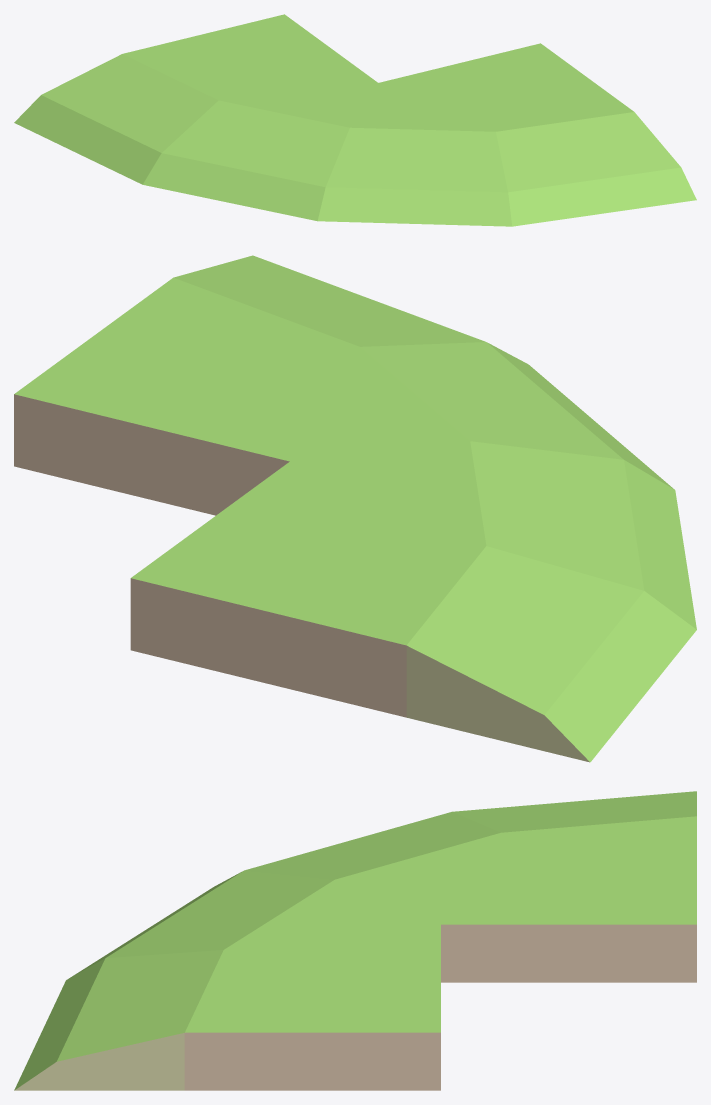
Rendered from Grass_Carpet_Curve_Outer_3x3.glb.
The picture shows the model from 3 angles, top to bottom: view 1: azimuth 30°, elevation 25°; view 2: azimuth 150°, elevation 25°; view 3: azimuth 270°, elevation 25°; orthographic projection. The views are drawn at different scales.
Visible parts, largest first — view 1: Grass_Carpet_Curve_Outer_3x3; view 2: Grass_Carpet_Curve_Outer_3x3; view 3: Grass_Carpet_Curve_Outer_3x3.
Boxes of the visible parts, box(x1,y1,x2,y2) form: Grass_Carpet_Curve_Outer_3x3: box(14, 14, 696, 226); Grass_Carpet_Curve_Outer_3x3: box(14, 255, 696, 762); Grass_Carpet_Curve_Outer_3x3: box(14, 791, 696, 1090).
Bounding box in the file's own units: 267 × 25 × 267.
